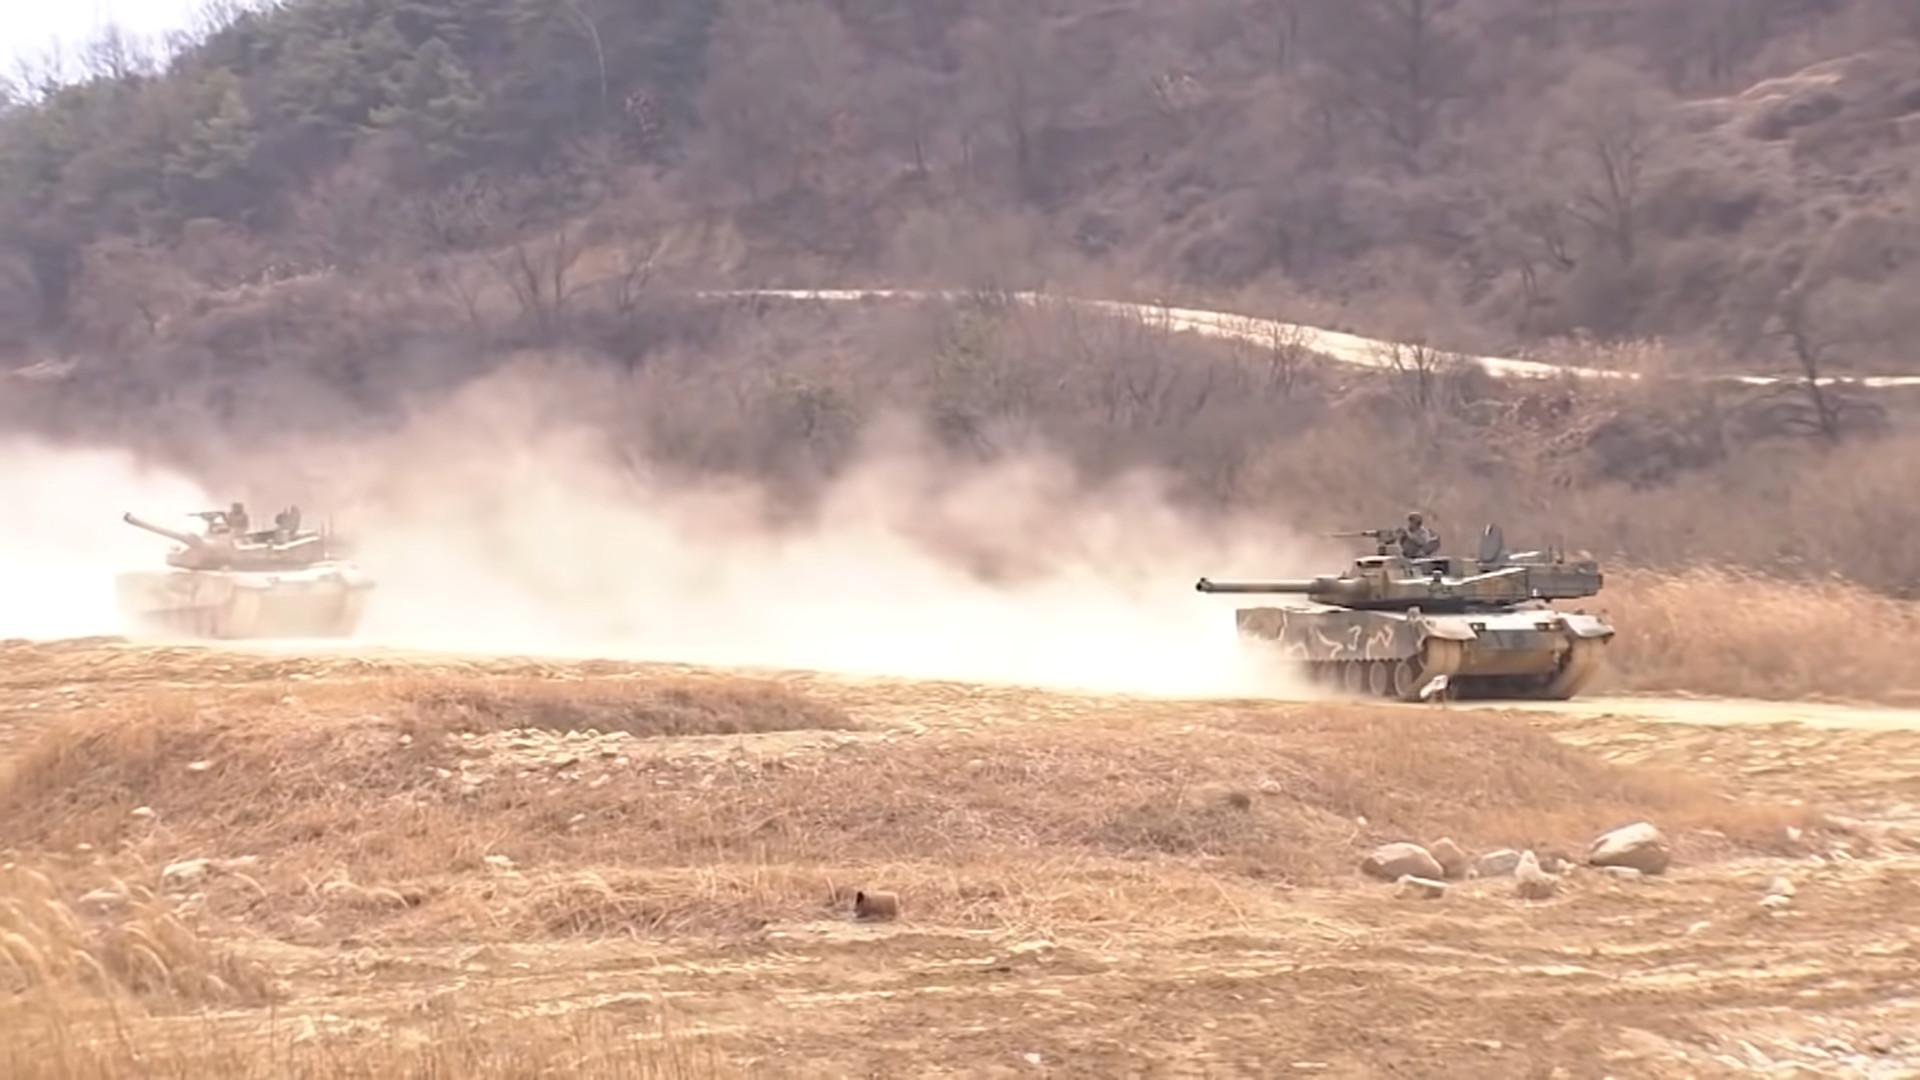tank: (1199, 521, 1614, 700), (113, 504, 376, 638)
